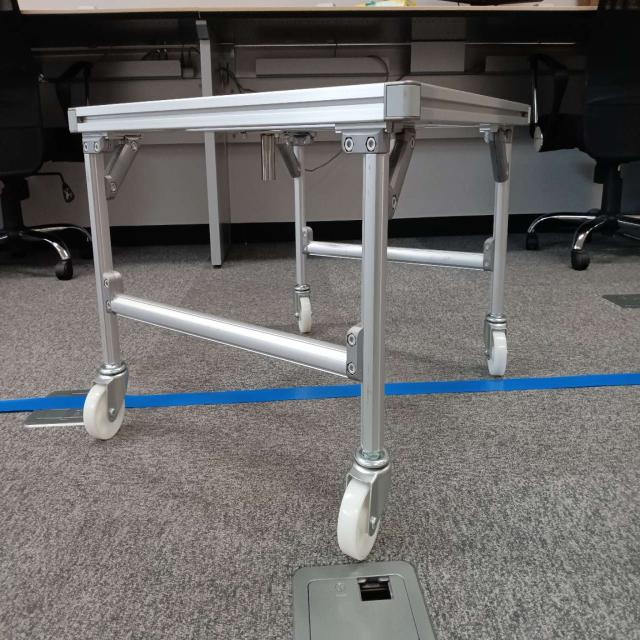door: (382, 82, 512, 214)
side: (81, 79, 381, 380)
